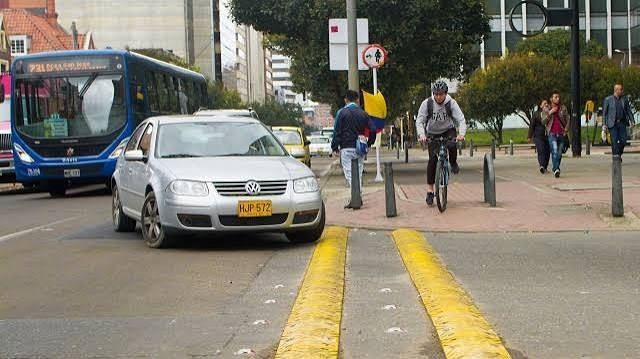car: (112, 112, 323, 249), (12, 37, 199, 191)
